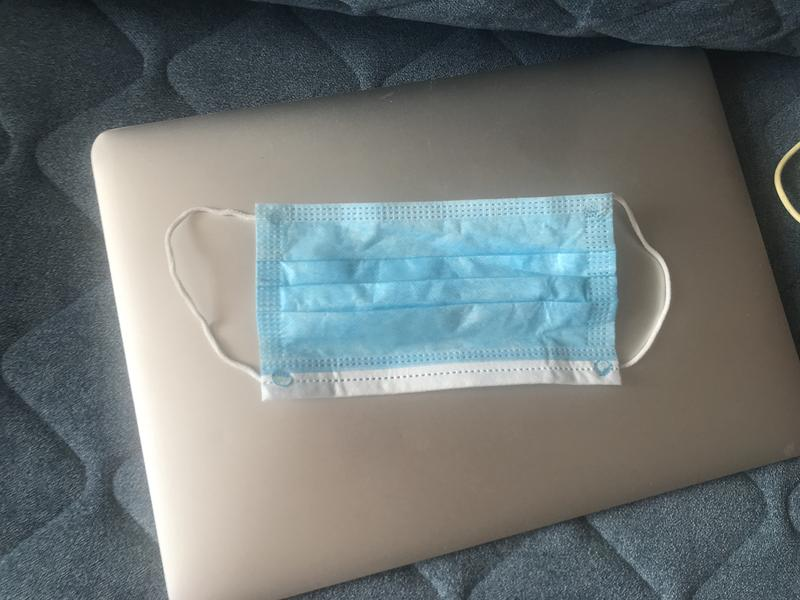medical_mask: (164, 192, 670, 398)
